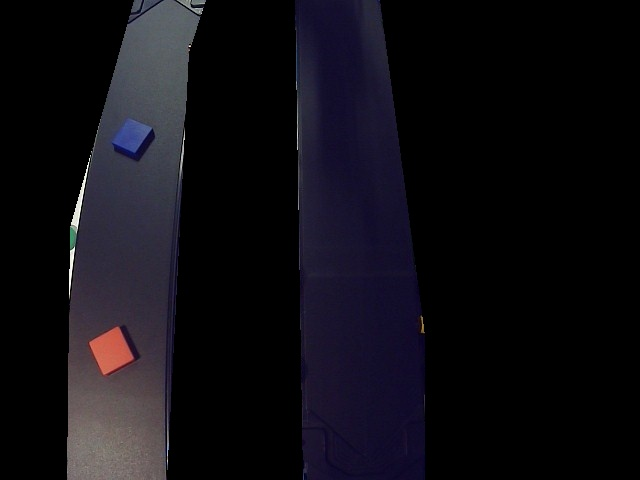Blue_Square: (111, 118, 156, 158)
Red_Square: (86, 323, 138, 375)
